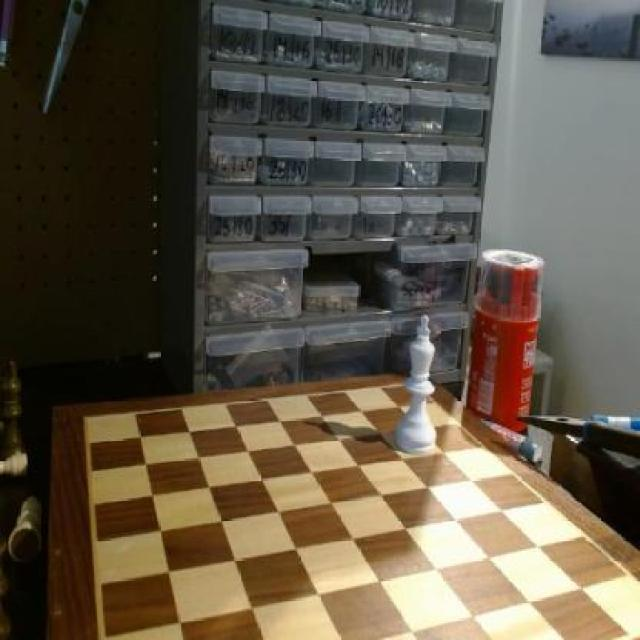white-bishop: (391, 315, 445, 460)
